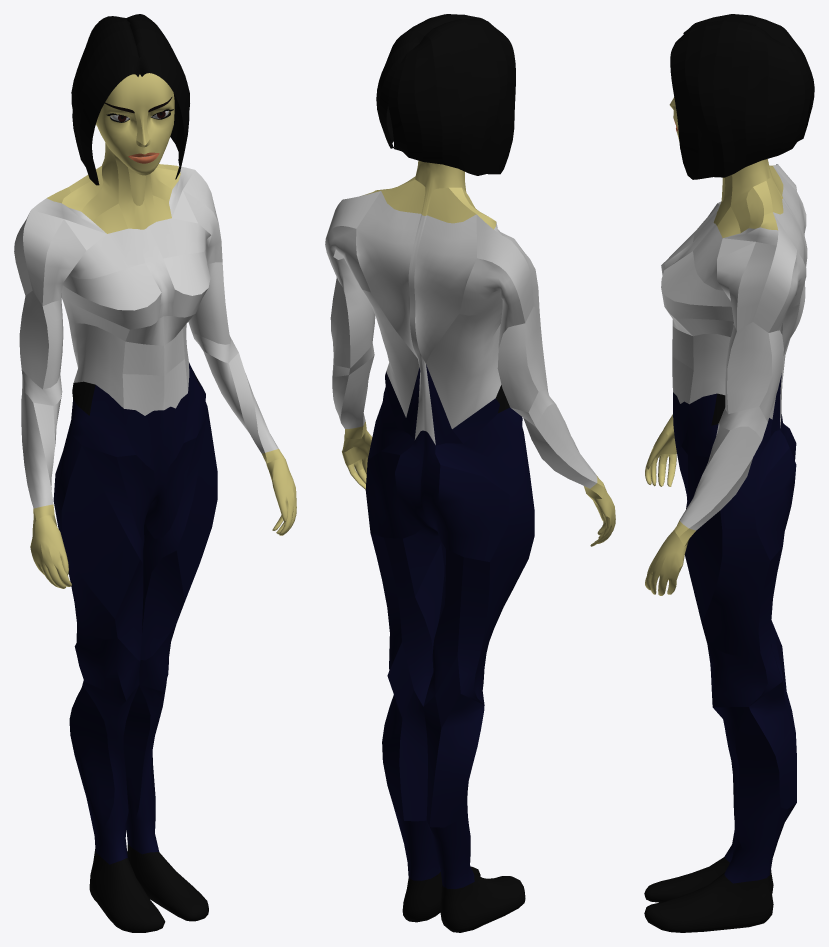
The model's file is cabeza gira derecha.obj.
3 views of the same model, side by side, from view 1: azimuth 30°, elevation 25°; view 2: azimuth 150°, elevation 25°; view 3: azimuth 270°, elevation 25° (orthographic). The views are drawn at different scales.
Parts seen in each view (by area): view 1: Piel.006; view 2: Piel.006; view 3: Piel.006.
Boxes of the visible parts, bbox=[...] form: Piel.006: bbox=[14, 14, 296, 932]; Piel.006: bbox=[325, 14, 615, 932]; Piel.006: bbox=[644, 14, 814, 932].
Size of the model in its own units: 1.02 by 3.26 by 0.5638.
